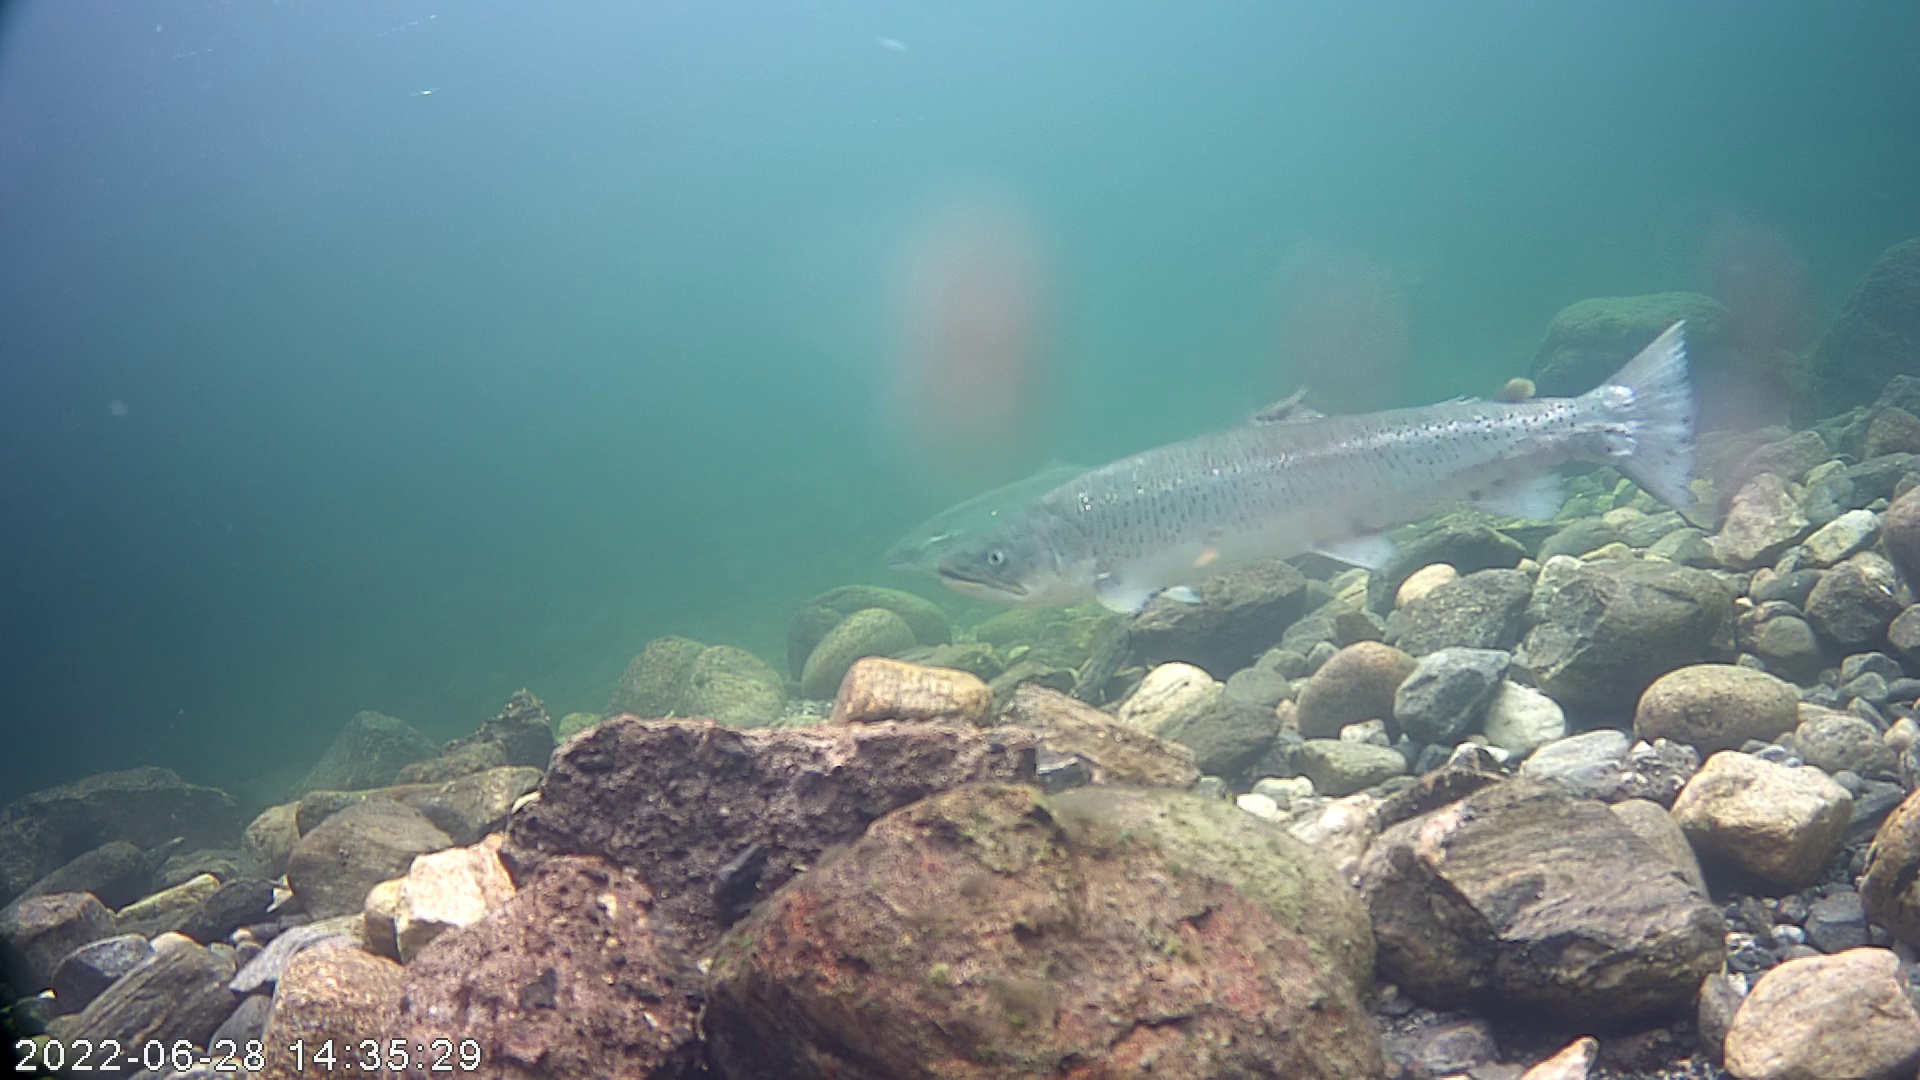salmon: (884, 236, 1726, 662)
